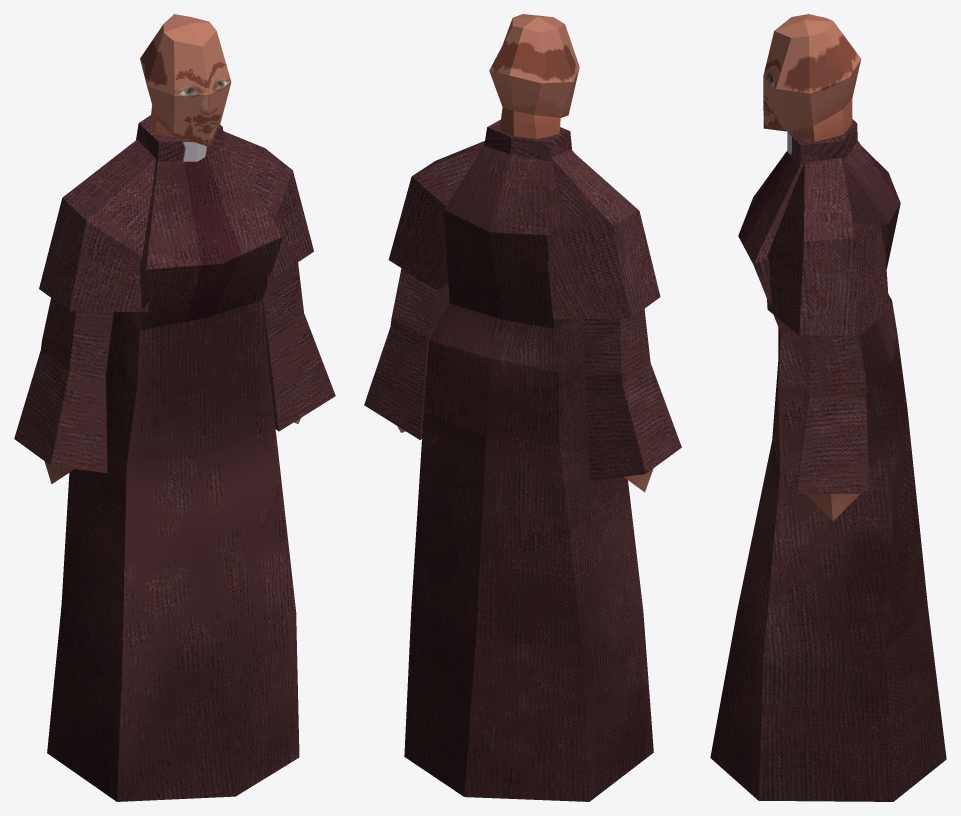
The model's file is Priest.fbx.
3 views of the same model, side by side, from view 1: azimuth 30°, elevation 25°; view 2: azimuth 150°, elevation 25°; view 3: azimuth 270°, elevation 25° (orthographic).
Visible parts, largest first — view 1: polySurface4, polySurface2, polySurface3, polySurface1; view 2: polySurface4, polySurface2, polySurface3, polySurface1; view 3: polySurface4, polySurface3, polySurface1.
Boxes of the visible parts, bbox=[...] form: polySurface4: bbox=[47, 115, 299, 801]; polySurface2: bbox=[14, 140, 155, 483]; polySurface3: bbox=[223, 131, 335, 431]; polySurface1: bbox=[140, 14, 231, 146]; polySurface4: bbox=[404, 119, 653, 801]; polySurface2: bbox=[547, 149, 681, 492]; polySurface3: bbox=[364, 141, 484, 439]; polySurface1: bbox=[489, 14, 579, 138]; polySurface4: bbox=[710, 119, 946, 801]; polySurface3: bbox=[767, 158, 889, 520]; polySurface1: bbox=[763, 14, 861, 141].
Bounding box in the file's own units: 24.39 × 60.34 × 17.52.
1 material, 1 textured.
